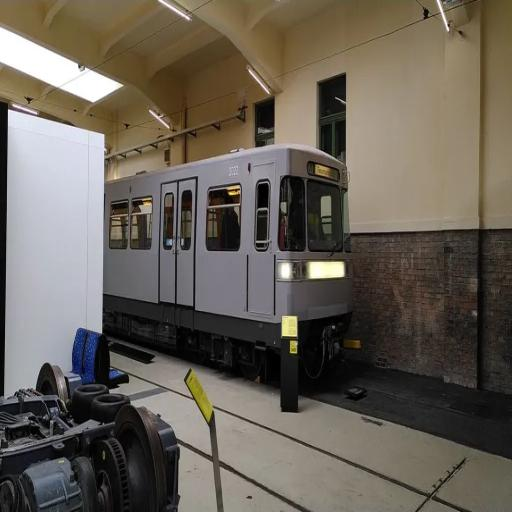Silberpfeil: (103, 143, 352, 330)
